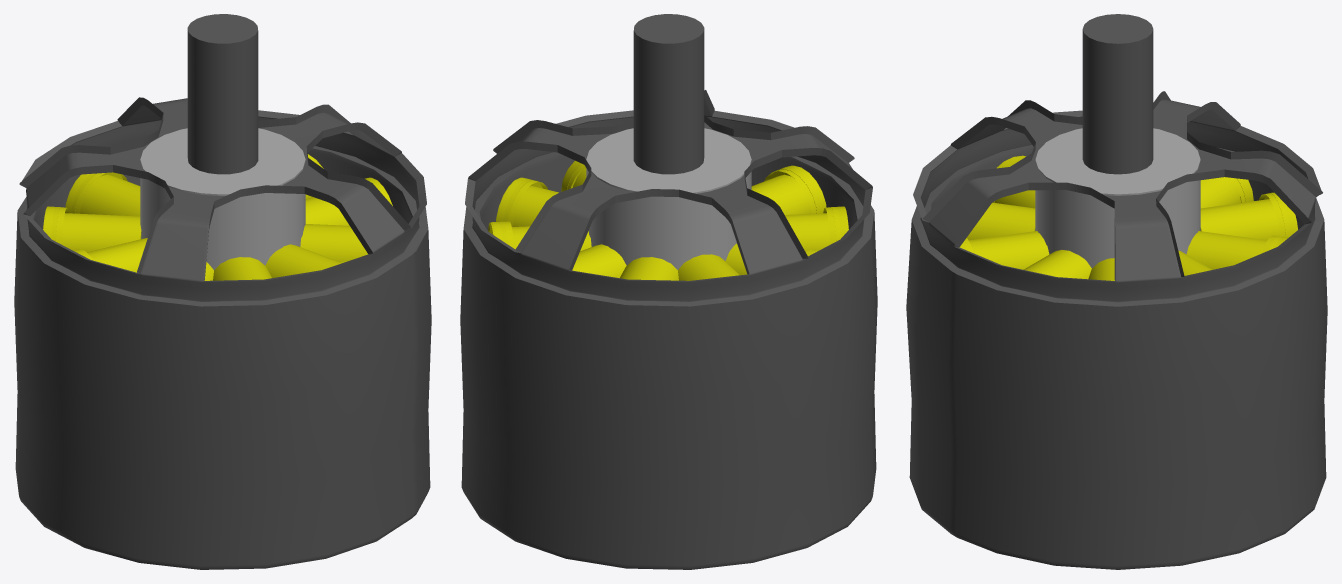
The model's file is motor_type_4.fbx.
The picture shows the model from 3 angles, left to right: view 1: azimuth 30°, elevation 25°; view 2: azimuth 150°, elevation 25°; view 3: azimuth 270°, elevation 25°; orthographic projection.
Parts seen in each view (by area): view 1: pCylinder19, pCylinder18, coil_7_116, coil_7_115, coil_7_121, coil_7_120, coil_7_117, coil_7_118, coil; view 2: pCylinder19, pCylinder18, coil_7_118, coil, coil_7_119, coil_7_114, coil_7_116, coil_7_115, coil_7_113, coil_7_121; view 3: pCylinder19, pCylinder18, coil_7_115, coil_7_114, coil_7_120, coil_7_118, coil_7_116, coil_7_121, coil_7_119.
Boxes of the visible parts, x1,y1,x2,y2 form: pCylinder19: (14,14,431,569); pCylinder18: (140,128,305,269); coil_7_116: (43,206,141,252); coil_7_115: (65,172,140,216); coil_7_121: (300,224,367,262); coil_7_120: (265,244,348,277); coil_7_117: (72,238,147,272); coil_7_118: (213,257,271,280); coil: (305,177,392,225); pCylinder19: (460,14,877,569); pCylinder18: (586,128,751,269); coil_7_118: (751,165,826,214); coil: (496,177,558,226); coil_7_119: (785,206,848,251); coil_7_114: (572,244,626,277); coil_7_116: (678,254,739,280); coil_7_115: (620,257,678,280); coil_7_113: (488,221,591,251); coil_7_121: (561,160,586,191); pCylinder19: (906,14,1327,569); pCylinder18: (1035,128,1200,267); coil_7_115: (1200,192,1297,240); coil_7_114: (1186,231,1288,269); coil_7_120: (959,231,1049,269); coil_7_118: (966,202,1035,240); coil_7_116: (1200,177,1253,208); coil_7_121: (1023,250,1091,279); coil_7_119: (993,155,1035,208).
Size of the model in its own units: 2.54 by 3.03 by 2.55.
